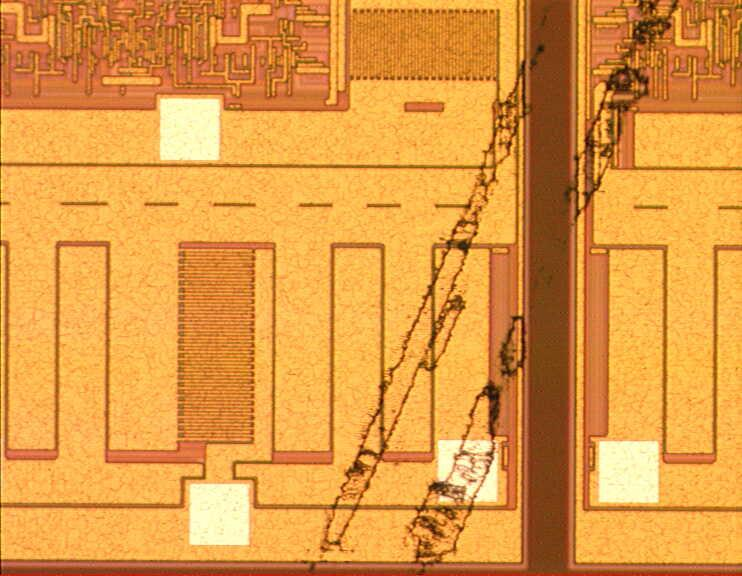SCRATCH: (304, 1, 679, 576)
